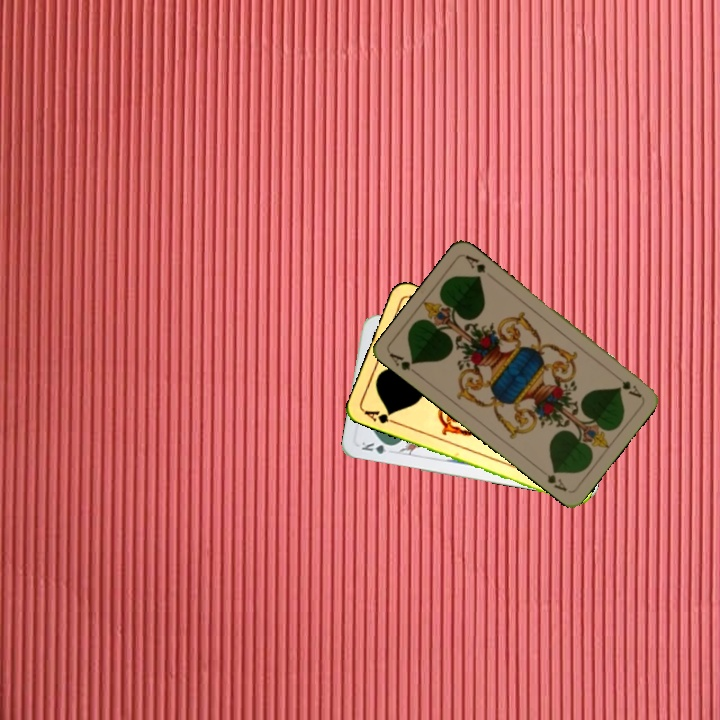GA: (609, 370, 644, 400), (386, 349, 422, 378), (360, 406, 400, 427)
GK: (357, 437, 397, 457)
